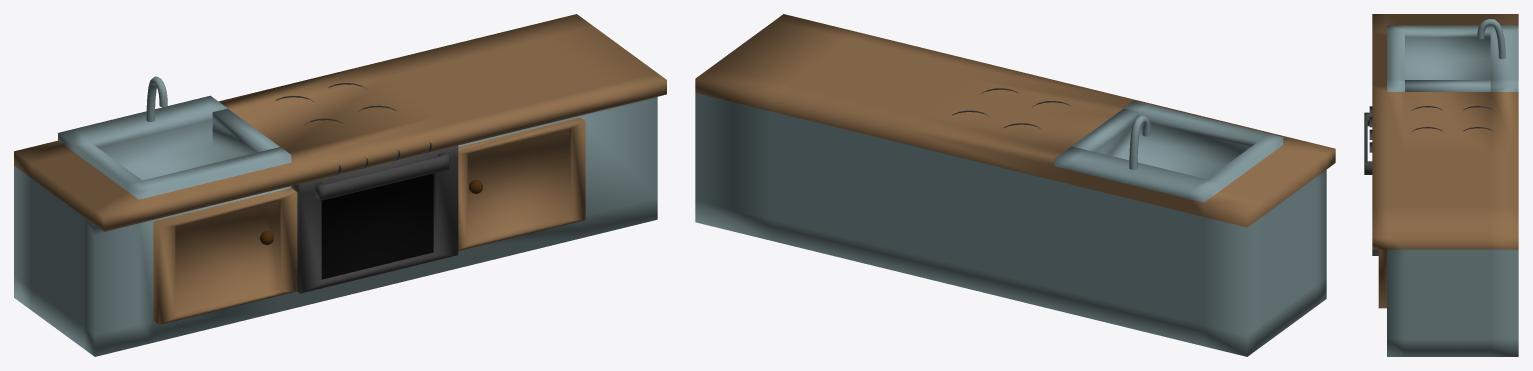
The model's file is Kitchen.glb.
3 views of the same model, side by side, from view 1: azimuth 30°, elevation 25°; view 2: azimuth 150°, elevation 25°; view 3: azimuth 270°, elevation 25° (orthographic). The views are drawn at different scales.
Visible parts, largest first — view 1: Icosphere.001; view 2: Icosphere.001; view 3: Icosphere.001.
Boxes of the visible parts, x1,y1,x2,y2 form: Icosphere.001: [14, 14, 666, 356]; Icosphere.001: [695, 14, 1335, 356]; Icosphere.001: [1364, 14, 1518, 356].
Bounding box in the file's own units: 4.48 × 1.54 × 1.31.
